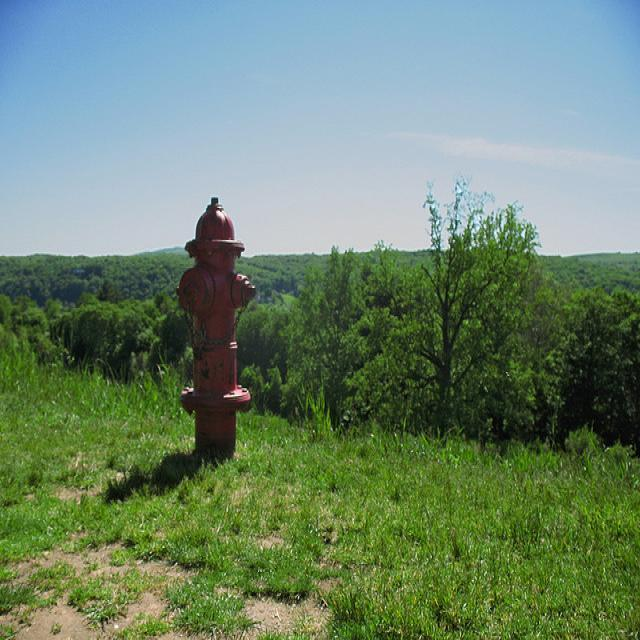fire_hydrant: (176, 196, 256, 455)
